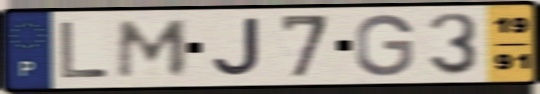3: (426, 11, 480, 78)
7: (278, 13, 332, 81)
G: (353, 12, 417, 78)
J: (210, 15, 262, 79)
L: (57, 20, 112, 81)
M: (114, 18, 192, 81)
